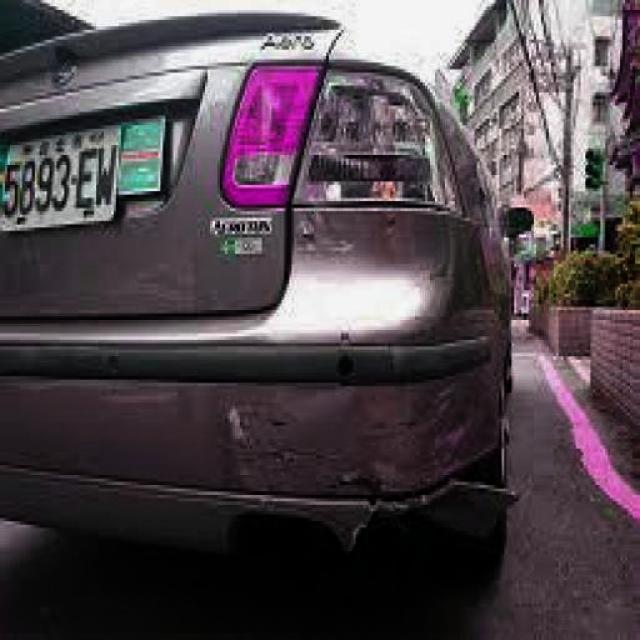car damage: (220, 365, 502, 564)
